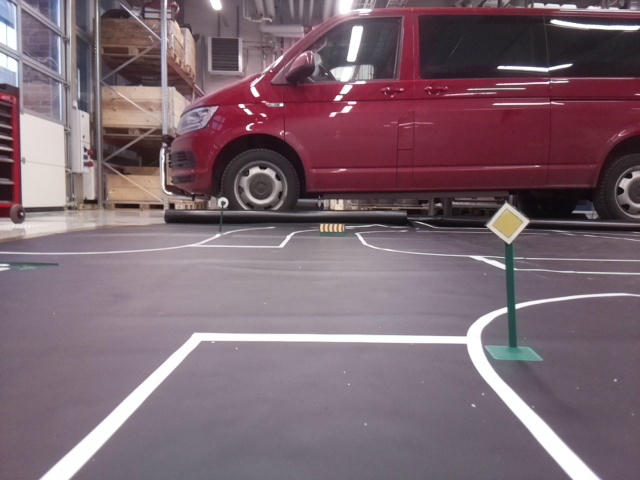Priority: (486, 203, 529, 246)
